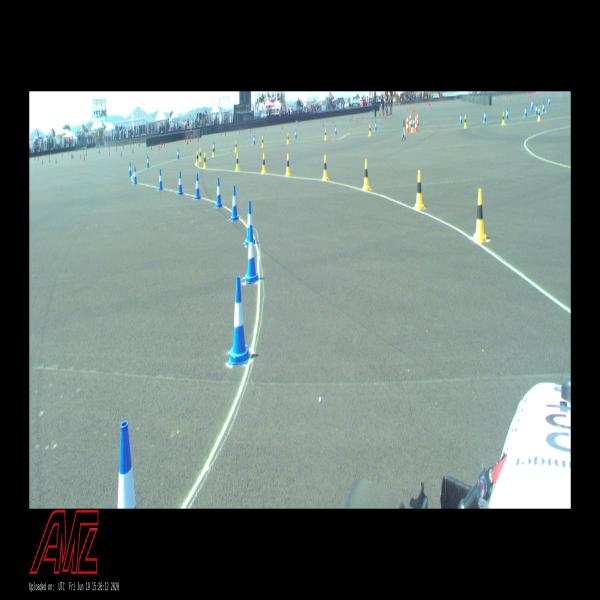blue_cone: (228, 276, 250, 364), (118, 420, 136, 508), (245, 224, 259, 284), (245, 201, 255, 246), (230, 185, 238, 222), (216, 178, 222, 208), (194, 173, 200, 199), (178, 172, 183, 195), (158, 169, 163, 190), (134, 167, 138, 185), (128, 162, 132, 178), (524, 107, 527, 118), (177, 149, 180, 159), (374, 121, 377, 131), (542, 102, 545, 112), (147, 156, 149, 168), (484, 111, 486, 122), (460, 113, 462, 124), (506, 109, 508, 120), (536, 104, 538, 115), (294, 129, 296, 139), (335, 125, 337, 135), (413, 118, 415, 128), (253, 135, 255, 145), (530, 101, 532, 110), (548, 97, 550, 105), (214, 142, 215, 152)
large_orange_cone: (415, 112, 418, 132), (406, 113, 409, 132), (409, 111, 411, 128), (417, 111, 419, 127)
yellow_cone: (473, 188, 488, 242), (414, 170, 426, 209), (362, 159, 371, 191), (322, 155, 328, 181), (286, 153, 290, 177), (235, 153, 240, 172), (262, 154, 266, 174), (203, 153, 207, 169), (196, 151, 199, 165), (502, 112, 505, 125), (212, 145, 215, 157), (261, 136, 264, 148), (464, 116, 467, 128), (324, 129, 327, 140), (199, 149, 201, 161), (235, 140, 237, 152), (369, 124, 371, 136), (411, 120, 413, 132), (538, 108, 540, 120), (287, 133, 289, 144)
